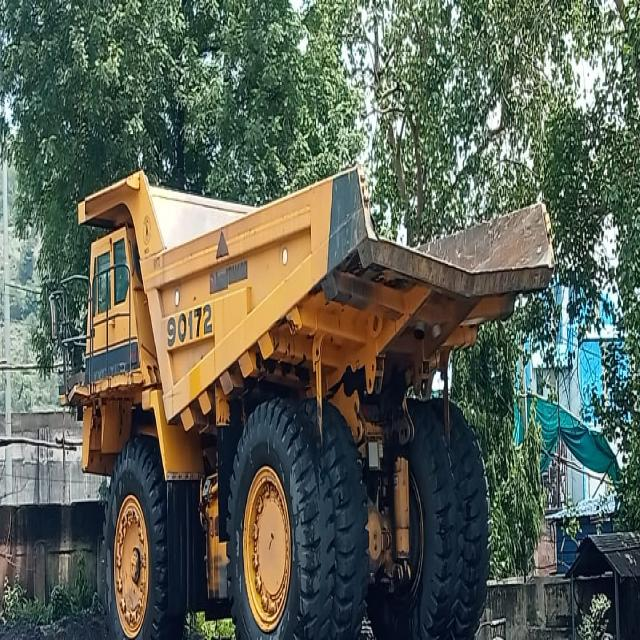dump_truck: (70, 157, 562, 638)
